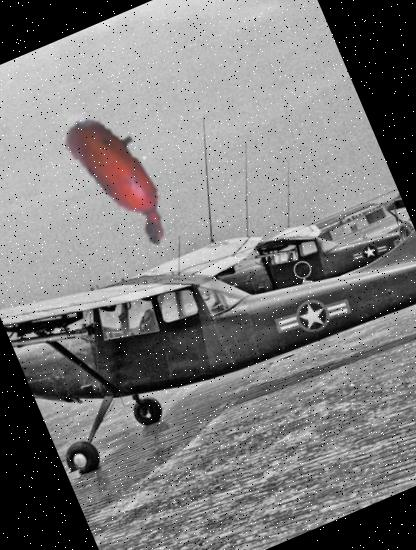Banana: (25, 83, 219, 277)
